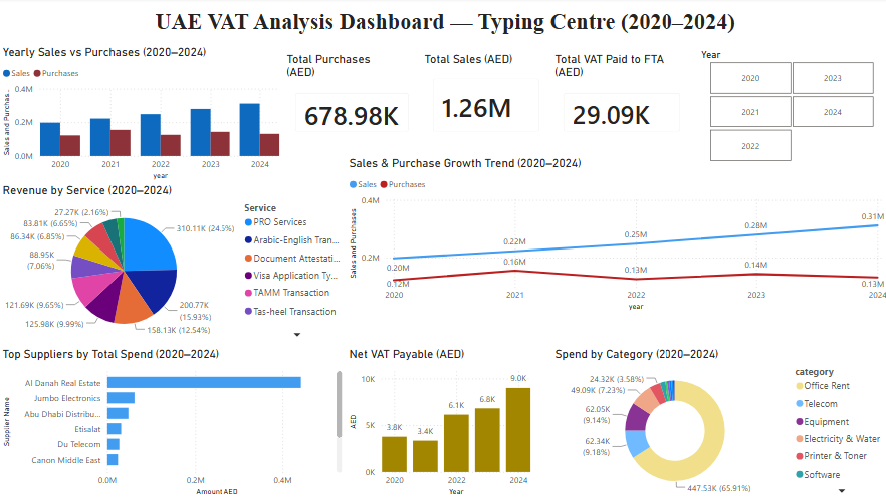

The dashboard page shown, as its layout file describes it:
{"tool":"powerbi","page":{"name":"Page 1","canvas":[1280,720],"ordinal":0},"visuals":[{"type":"clusteredColumnChart","title":"Yearly Sales vs Purchases (2020–2024)","fields":{"Category":["Yearly Summary.year"],"Y":["Sum(Yearly Summary.sales_amount)","Sum(Yearly Summary.purchase_amount)"]},"box":[0,67.7,409,198.7],"z":0},{"type":"clusteredColumnChart","title":"Net VAT Payable (AED)","fields":{"Category":["Yearly Summary.year"],"Y":["Sum(Yearly Summary.net_vat_payable)"]},"box":[498.2,501.1,270.7,218.9],"z":1000},{"type":"clusteredBarChart","title":"Top Suppliers by Total Spend (2020–2024)","fields":{"Category":["Top Suppliers.supplier_name"],"Y":["Sum(Top Suppliers.amount_aed)"]},"box":[0,501.1,498.2,218.9],"z":2000},{"type":"pieChart","title":"Revenue by Service (2020–2024)","fields":{"Category":["Top Services.service"],"Y":["Sum(Top Services.amount_aed)"]},"box":[0,266.4,508.3,230.4],"z":3000},{"type":"lineChart","title":"Sales & Purchase Growth Trend (2020–2024)","fields":{"Category":["Yearly Summary.year"],"Y":["Sum(Yearly Summary.sales_amount)","Sum(Yearly Summary.purchase_amount)"]},"box":[498.2,227.5,781.9,226.1],"z":4000},{"type":"textbox","box":[218.9,10.1,892.8,57.6],"z":5000},{"type":"cardVisual","title":"Total Sales (AED)","fields":{"Data":["Sum(Yearly Summary.sales_amount)"]},"box":[606.2,77.8,187.2,132.5],"z":6000},{"type":"cardVisual","title":"Total VAT Paid to FTA (AED)","fields":{"Data":["Sum(Yearly Summary.net_vat_payable)"]},"box":[793.4,77.8,203,132.5],"z":7000},{"type":"cardVisual","title":"Total Purchases (AED)","fields":{"Data":["Sum(Yearly Summary.purchase_amount)"]},"box":[409,77.8,197.3,132.5],"z":8000},{"type":"slicer","fields":{"Values":["Yearly Summary.year"]},"box":[996.5,67.7,283.7,174.2],"z":9000},{"type":"donutChart","title":"Spend by Category (2020–2024)","fields":{"Category":["Purchases.category"],"Y":["Sum(Purchases.amount_aed)"]},"box":[793.5,501,486.5,220.1],"z":10000}]}

Visuals, with their boxes in screenshot pixels (x1, y1, x2, y2), scaled from the page's 1280x720 canvas onto the 886x497 screenshot:
"Yearly Sales vs Purchases (2020–2024)" clusteredColumnChart: [left=0, top=47, right=283, bottom=184]
"Net VAT Payable (AED)" clusteredColumnChart: [left=345, top=346, right=532, bottom=496]
"Top Suppliers by Total Spend (2020–2024)" clusteredBarChart: [left=0, top=346, right=345, bottom=496]
"Revenue by Service (2020–2024)" pieChart: [left=0, top=184, right=352, bottom=343]
"Sales & Purchase Growth Trend (2020–2024)" lineChart: [left=345, top=157, right=885, bottom=313]
textbox: [left=152, top=7, right=770, bottom=47]
"Total Sales (AED)" cardVisual: [left=420, top=54, right=549, bottom=145]
"Total VAT Paid to FTA (AED)" cardVisual: [left=549, top=54, right=690, bottom=145]
"Total Purchases (AED)" cardVisual: [left=283, top=54, right=420, bottom=145]
slicer - Yearly Summary.year: [left=690, top=47, right=885, bottom=167]
"Spend by Category (2020–2024)" donutChart: [left=549, top=346, right=885, bottom=496]
